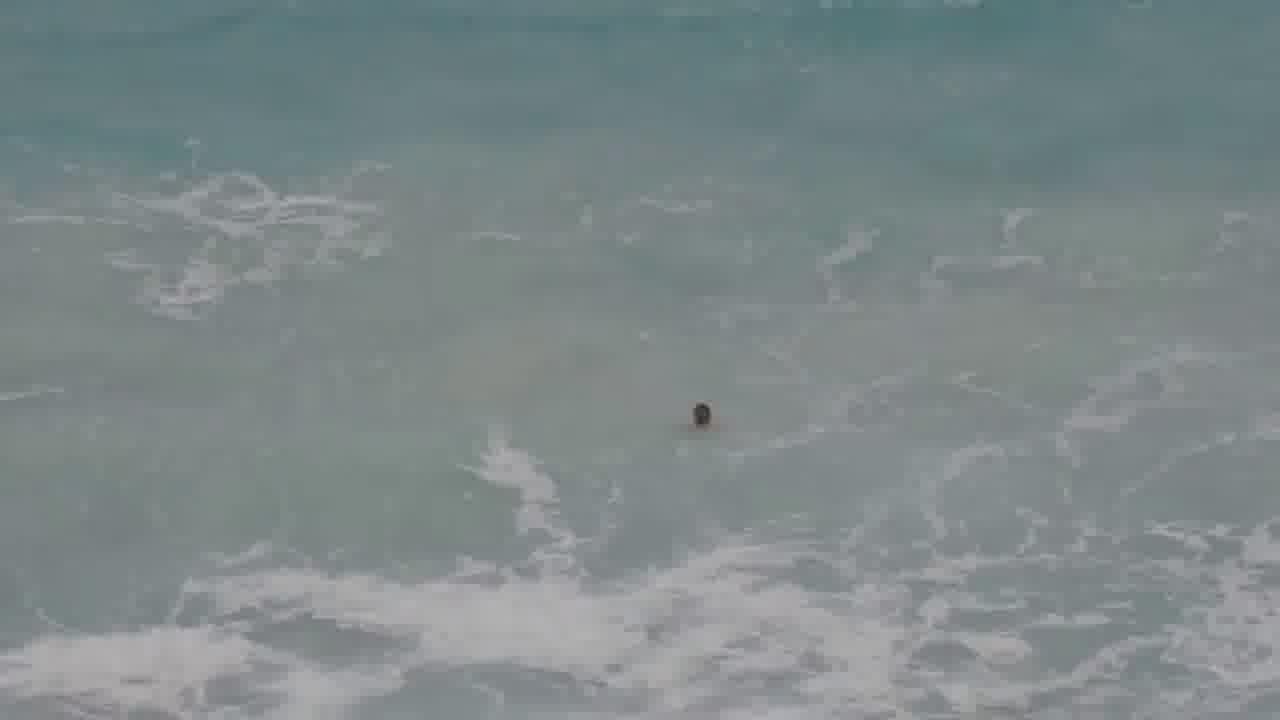human: (679, 388, 723, 438)
